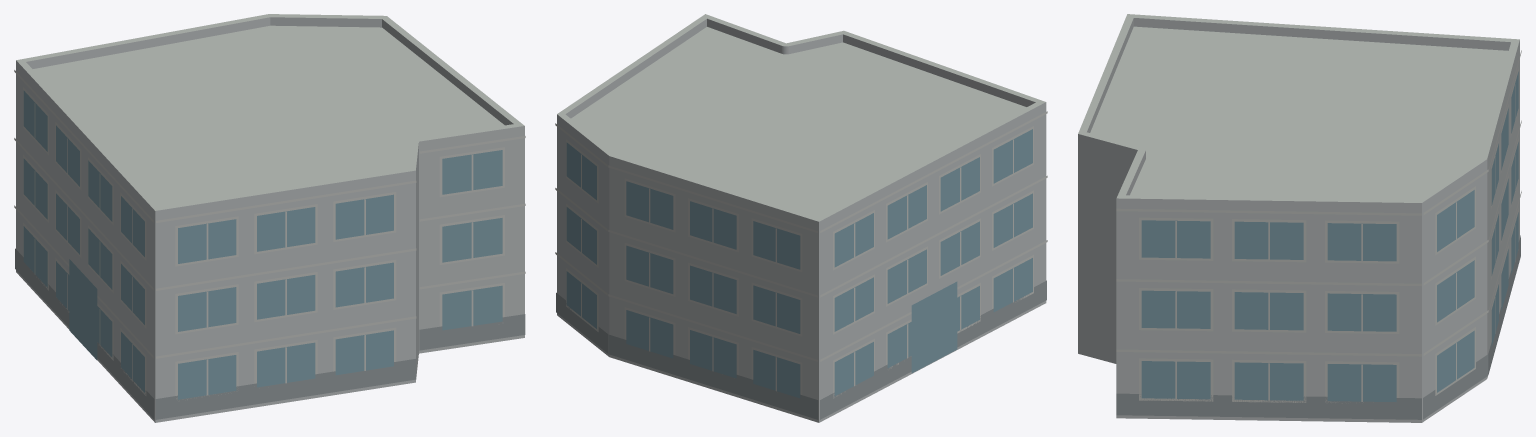
Rendered from public-0dff51f9-acf6-4087-b817-13664dab8420.glb.
The picture shows the model from 3 angles, left to right: view 1: azimuth 30°, elevation 25°; view 2: azimuth 150°, elevation 25°; view 3: azimuth 270°, elevation 25°; orthographic projection. The views are drawn at different scales.
Visible parts, largest first — view 1: public-0dff51f9-acf6-4087-b817-13664dab8420; view 2: public-0dff51f9-acf6-4087-b817-13664dab8420; view 3: public-0dff51f9-acf6-4087-b817-13664dab8420.
Part boxes in pixels (box(x1,y1,x2,y2)): public-0dff51f9-acf6-4087-b817-13664dab8420: box(14, 14, 525, 422); public-0dff51f9-acf6-4087-b817-13664dab8420: box(555, 14, 1047, 422); public-0dff51f9-acf6-4087-b817-13664dab8420: box(1078, 14, 1521, 422).
Size of the model in its own units: 17.29 by 9.15 by 16.8.
